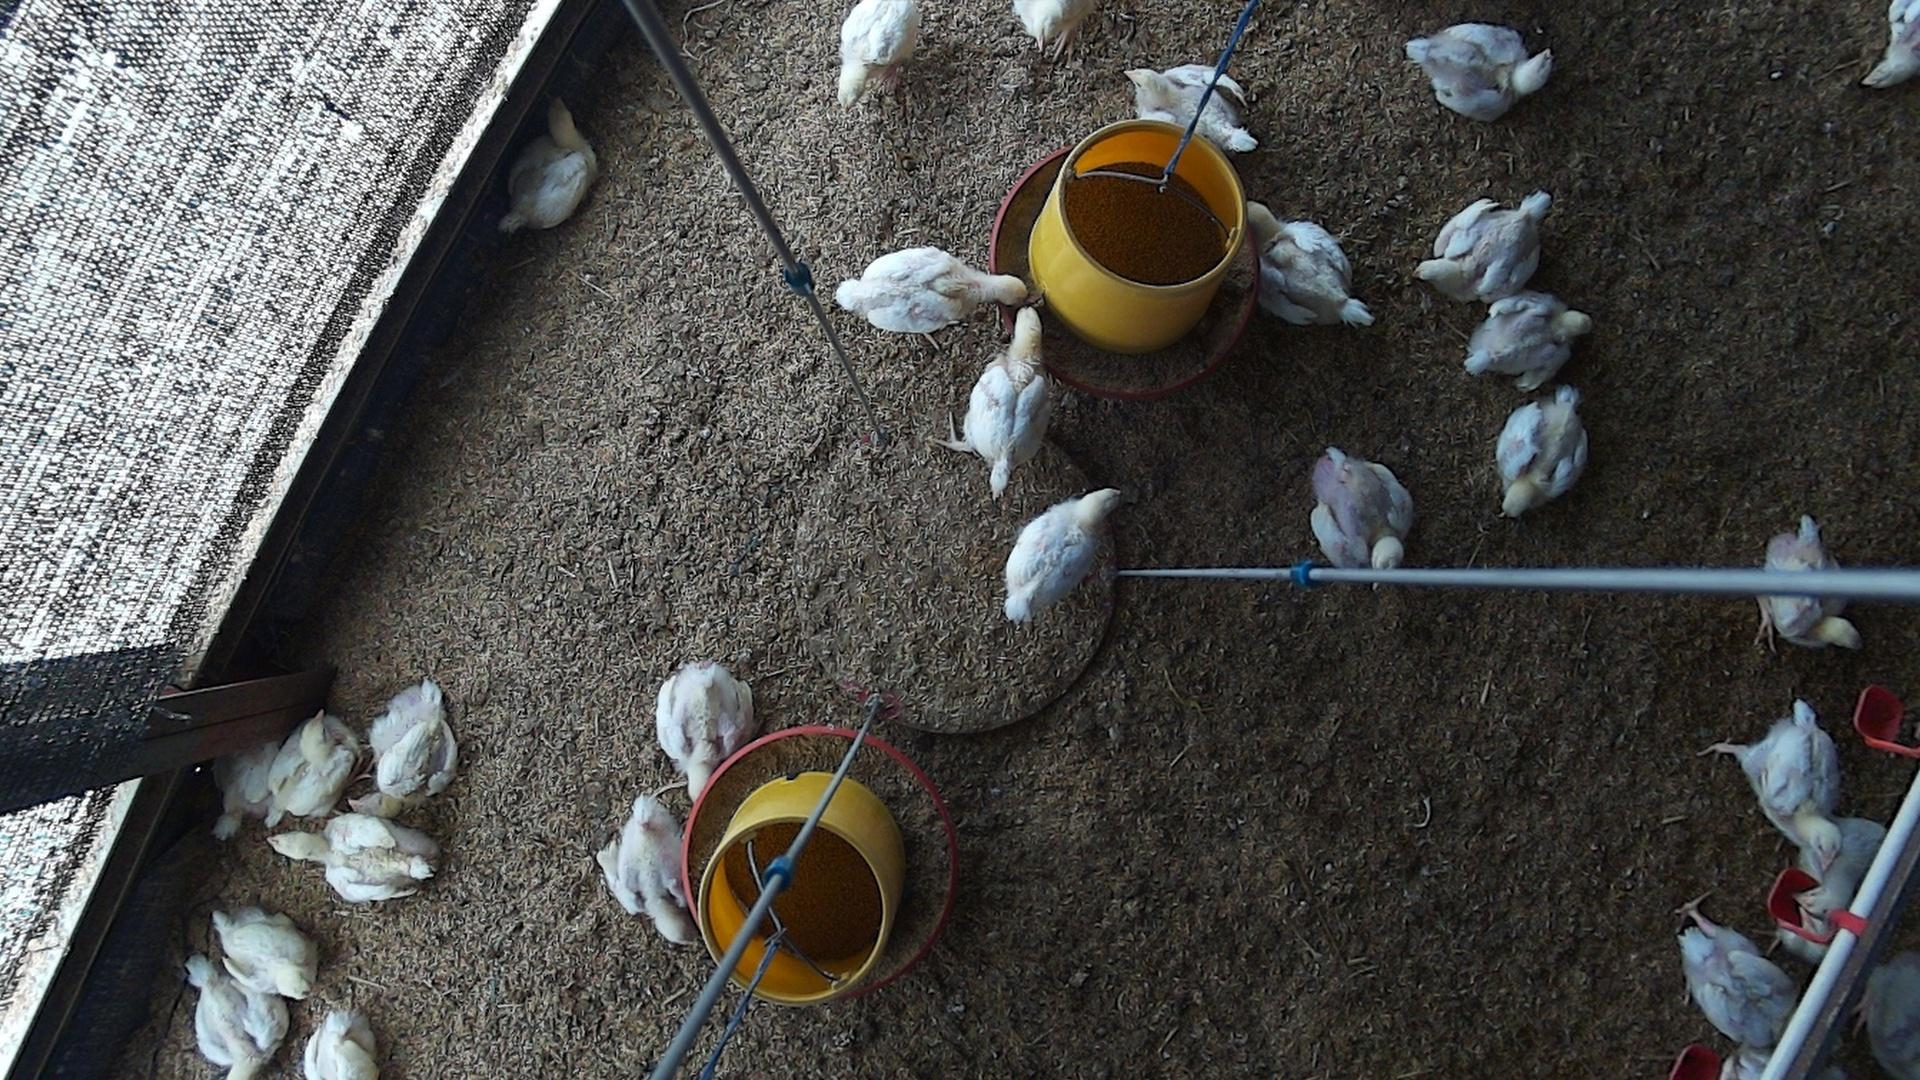ayam_broiler: (1676, 895, 1800, 1072), (1724, 698, 1840, 876), (938, 306, 1044, 497), (1244, 200, 1375, 328), (836, 245, 1025, 332), (1753, 514, 1863, 655), (272, 810, 436, 901), (1412, 191, 1549, 299), (1004, 489, 1117, 620), (655, 661, 754, 806), (599, 793, 692, 942), (1406, 22, 1552, 117), (252, 711, 355, 831), (1494, 385, 1586, 516), (1311, 446, 1412, 564), (1465, 293, 1590, 386), (500, 104, 592, 231), (1124, 67, 1258, 153), (369, 682, 455, 810), (189, 957, 274, 1080), (214, 906, 314, 997), (839, 0, 919, 108), (214, 740, 278, 839), (302, 1004, 376, 1080), (1011, 0, 1097, 62), (1863, 0, 1920, 83)
